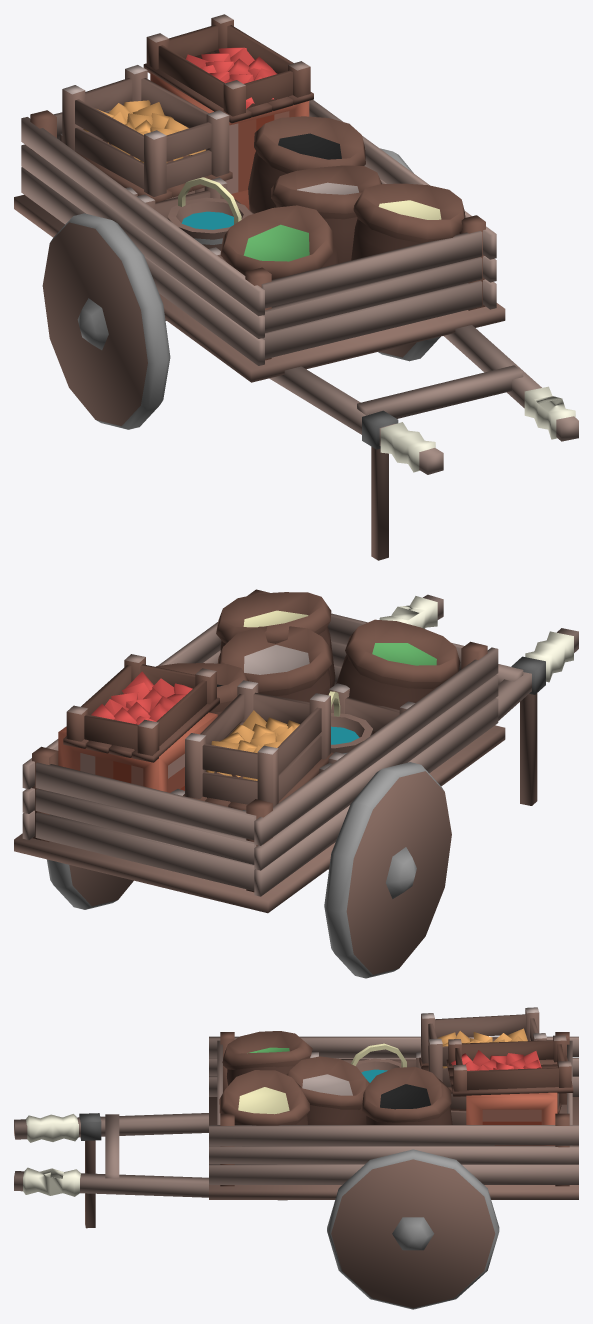
File: dray_003.glb
3 views of the same model, one above another, from view 1: azimuth 30°, elevation 25°; view 2: azimuth 150°, elevation 25°; view 3: azimuth 270°, elevation 25° (orthographic). The views are drawn at different scales.
Parts seen in each view (by area): view 1: dray_003; view 2: dray_003; view 3: dray_003.
Part boxes in pixels (x1,y1,x2,y2): dray_003: (14, 14, 578, 560); dray_003: (14, 589, 578, 978); dray_003: (14, 1007, 578, 1309).
Size of the model in its own units: 2.15 by 1.72 by 4.03.
Materials: 1 (1 with a texture image).
